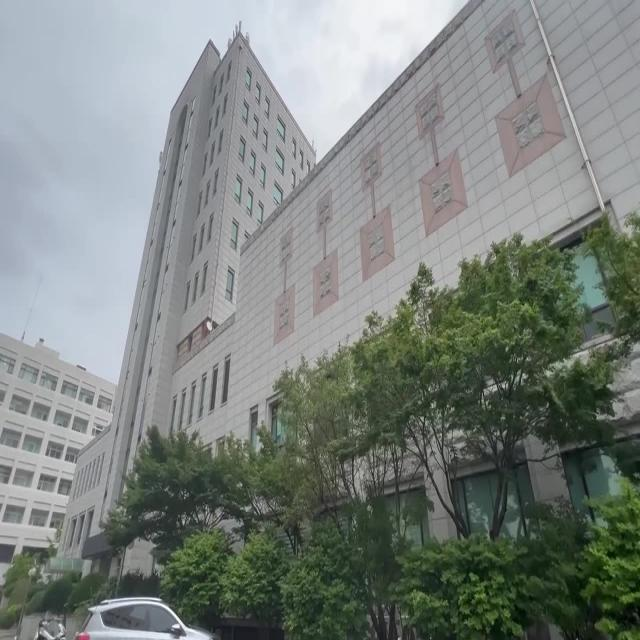building: (139, 15, 429, 319)
